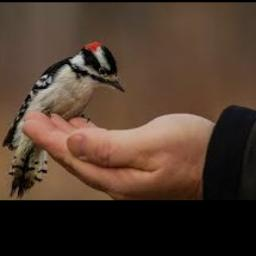Woodpecker: (2, 40, 125, 200)
